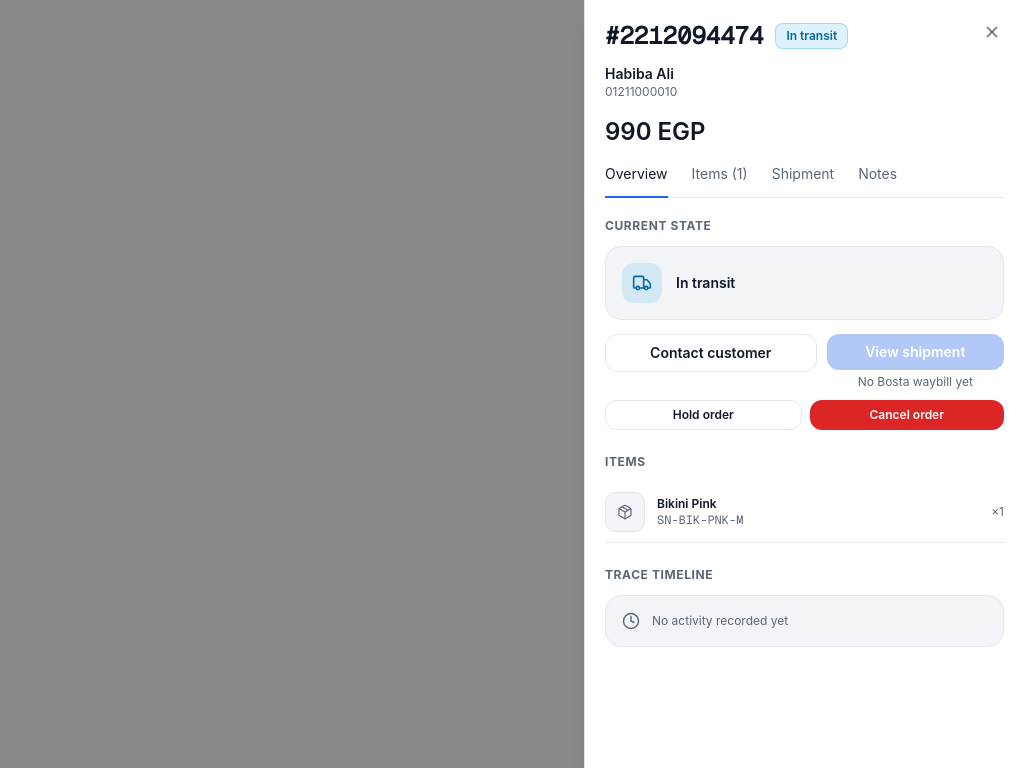
Test: Notes tab renders existing notes newest-first with author and body
expect the heading "#2212094474" is shown: met, box 605,20 -> 763,52
What coordinates should you click on to do the following:
click the button "Notes"
I would click on:
 (878, 181)
Its box is 858,164 -> 897,198.
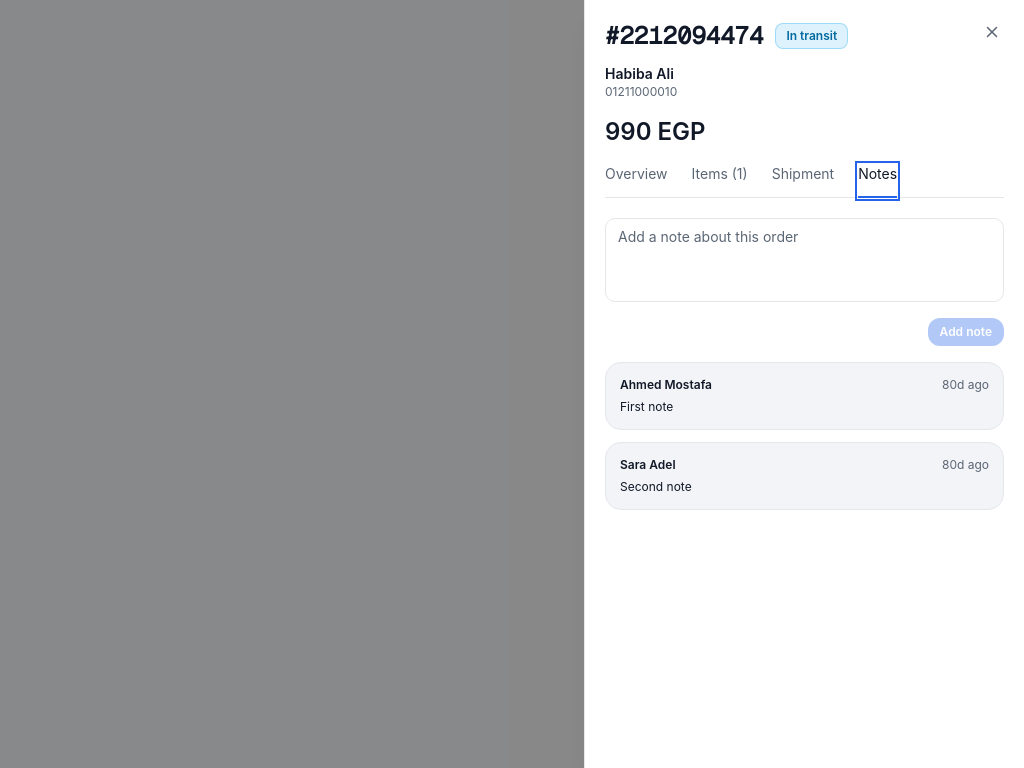
expect the text "First note" is shown: met, box 620,399 -> 673,414
expect the text "Second note" is shown: met, box 620,479 -> 692,494
expect the text "Ahmed Mostafa" is shown: met, box 620,377 -> 712,393
